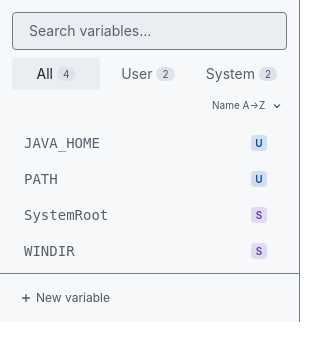
Sidebar › filters by User scope
The image size is (320, 339).
Click the radio button labelled "User 2" at x=148, y=74, box x1=121 y1=65 x2=175 y2=82
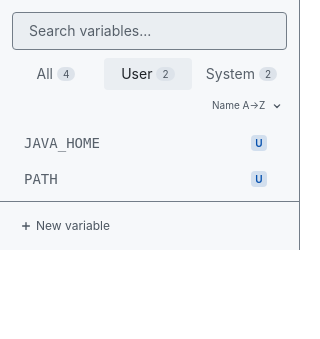
Expected: the text "JAVA_HOME" is shown, x1=24 y1=135 x2=100 y2=151
Result: the button "WINDIR" is gone
